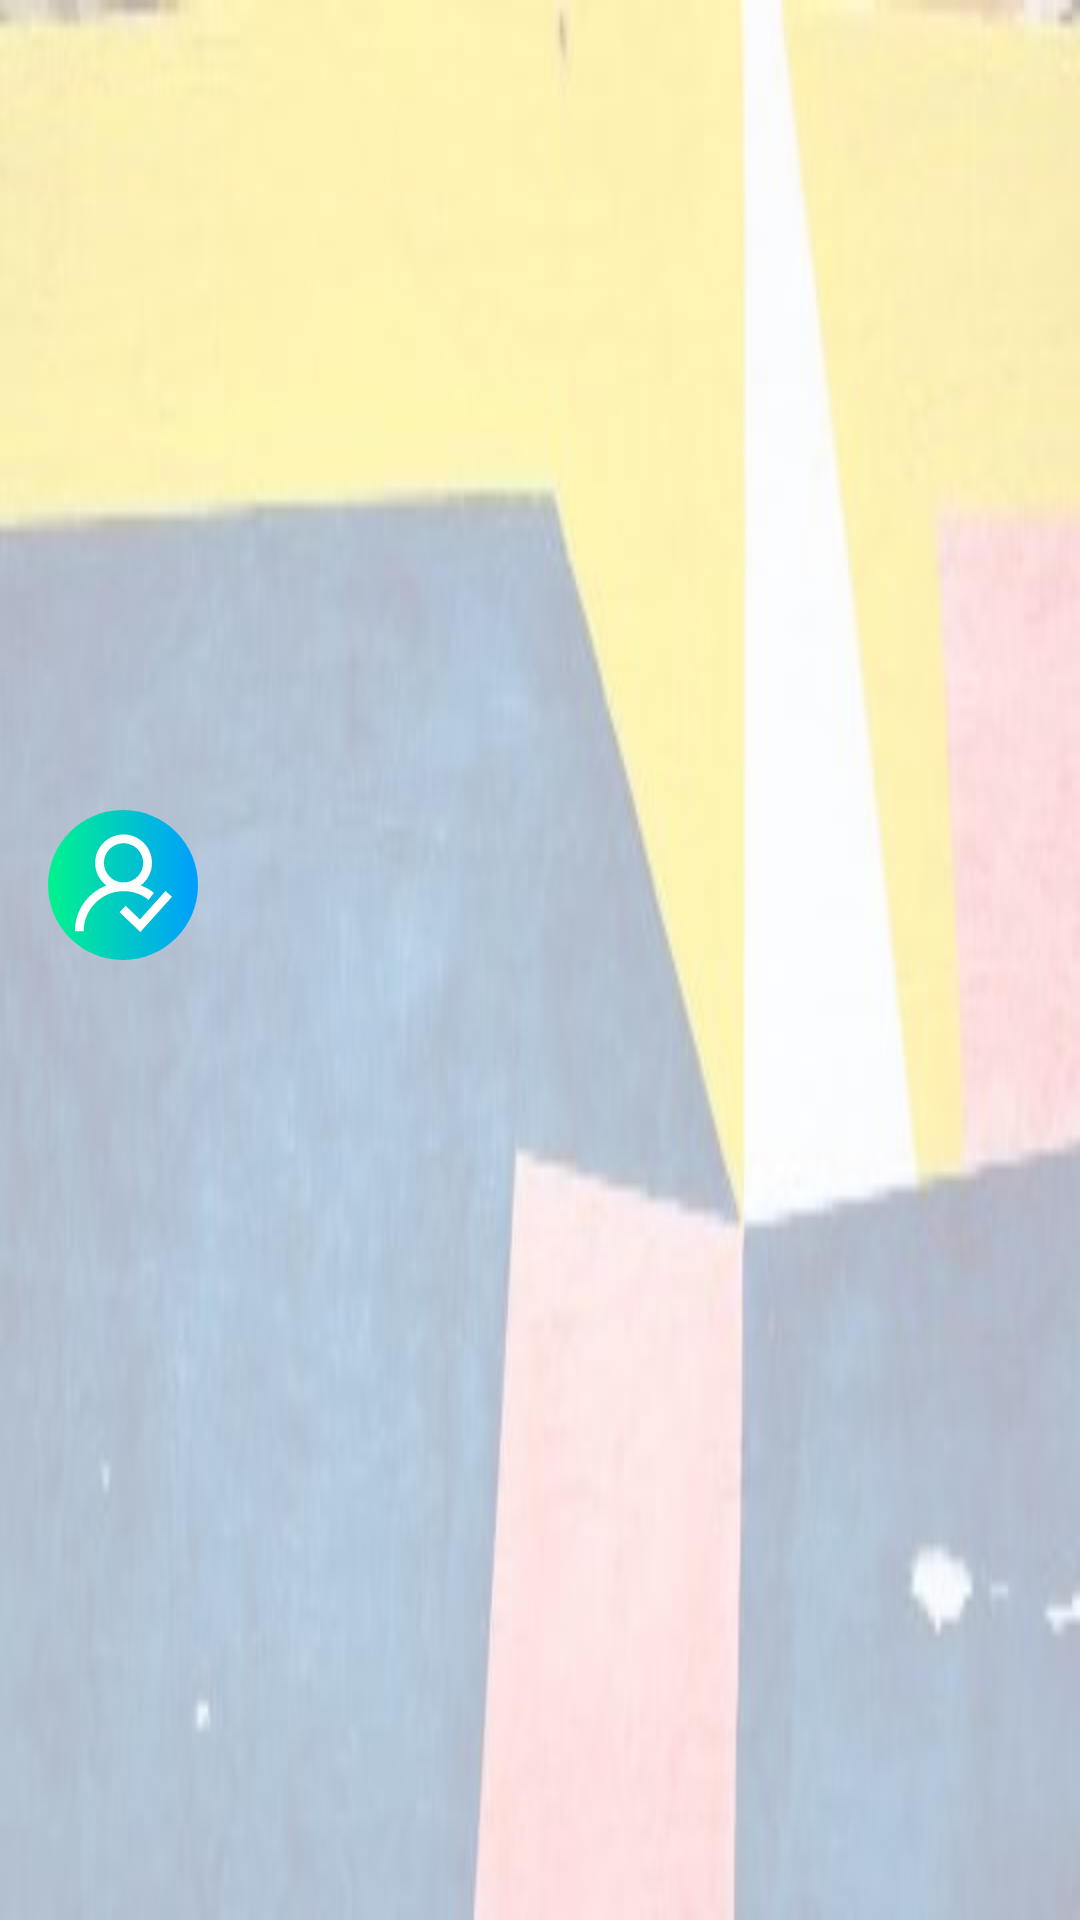

Where icons sit on this 1080 x 1920 app screen, as bbox=[x1, y1, x2, y2]:
user: bbox=[48, 810, 198, 960]
